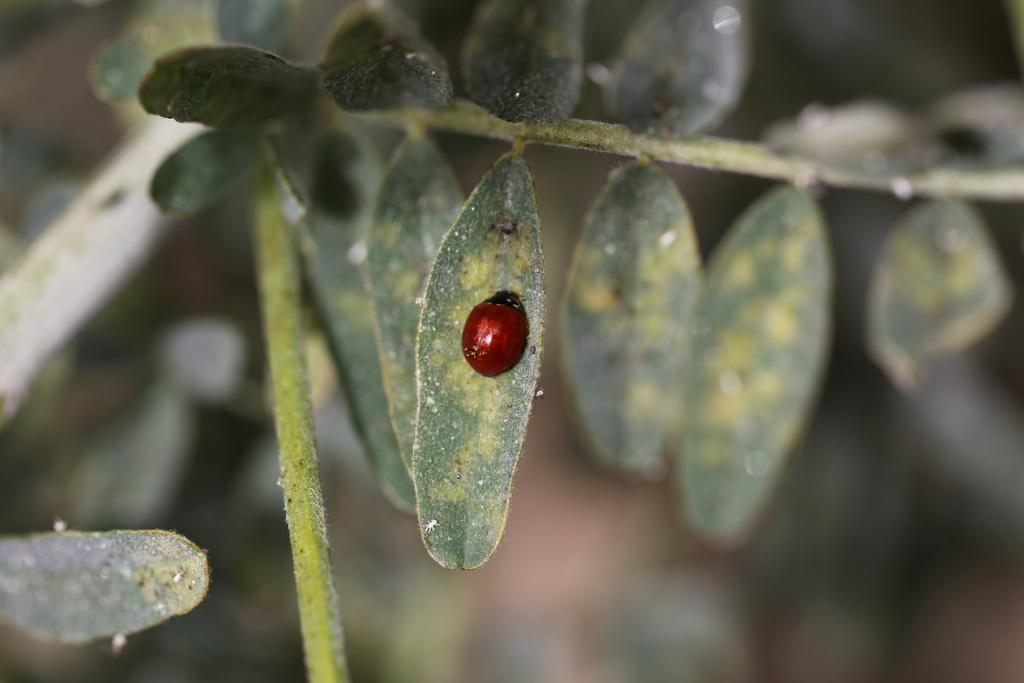ladybug: (460, 289, 532, 380)
